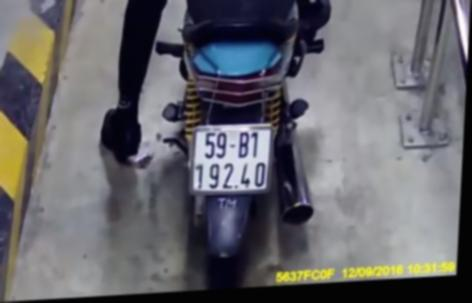License_Plate: (181, 115, 279, 202)
